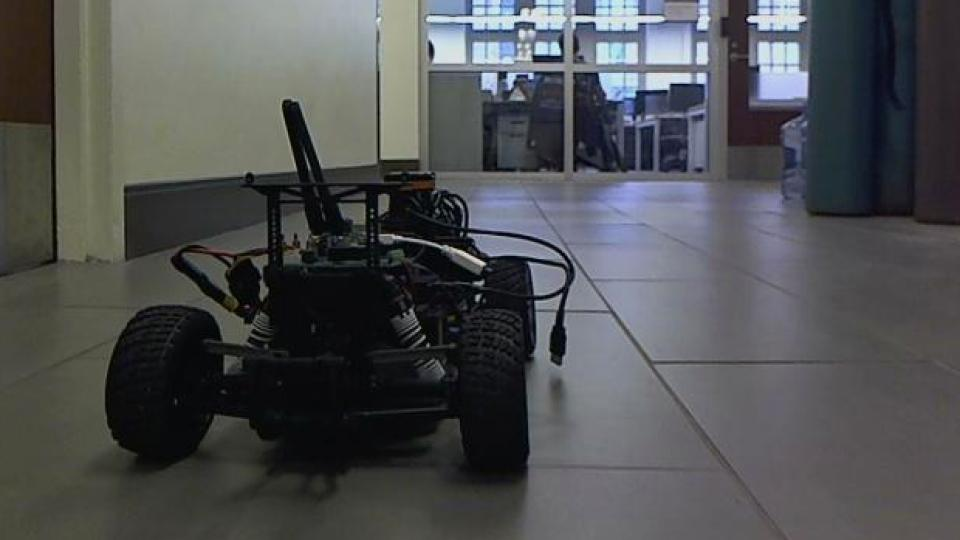car: (101, 96, 576, 476)
